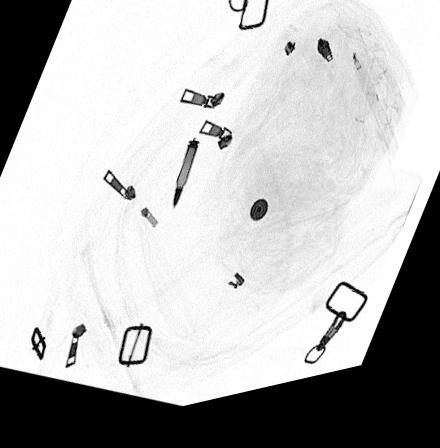Bullet: (172, 148, 201, 217)
